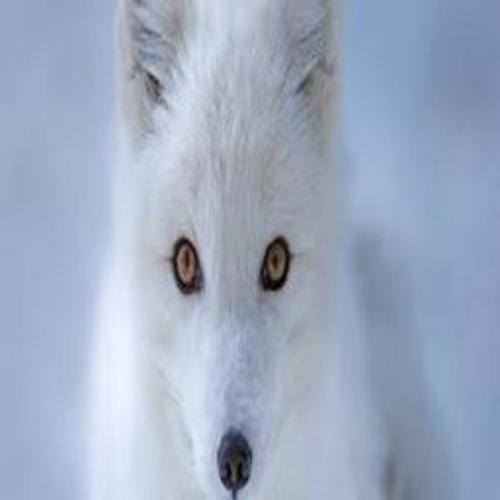arctic_fox-endangered: (85, 0, 448, 500)
